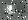person: (5, 6, 12, 15)
